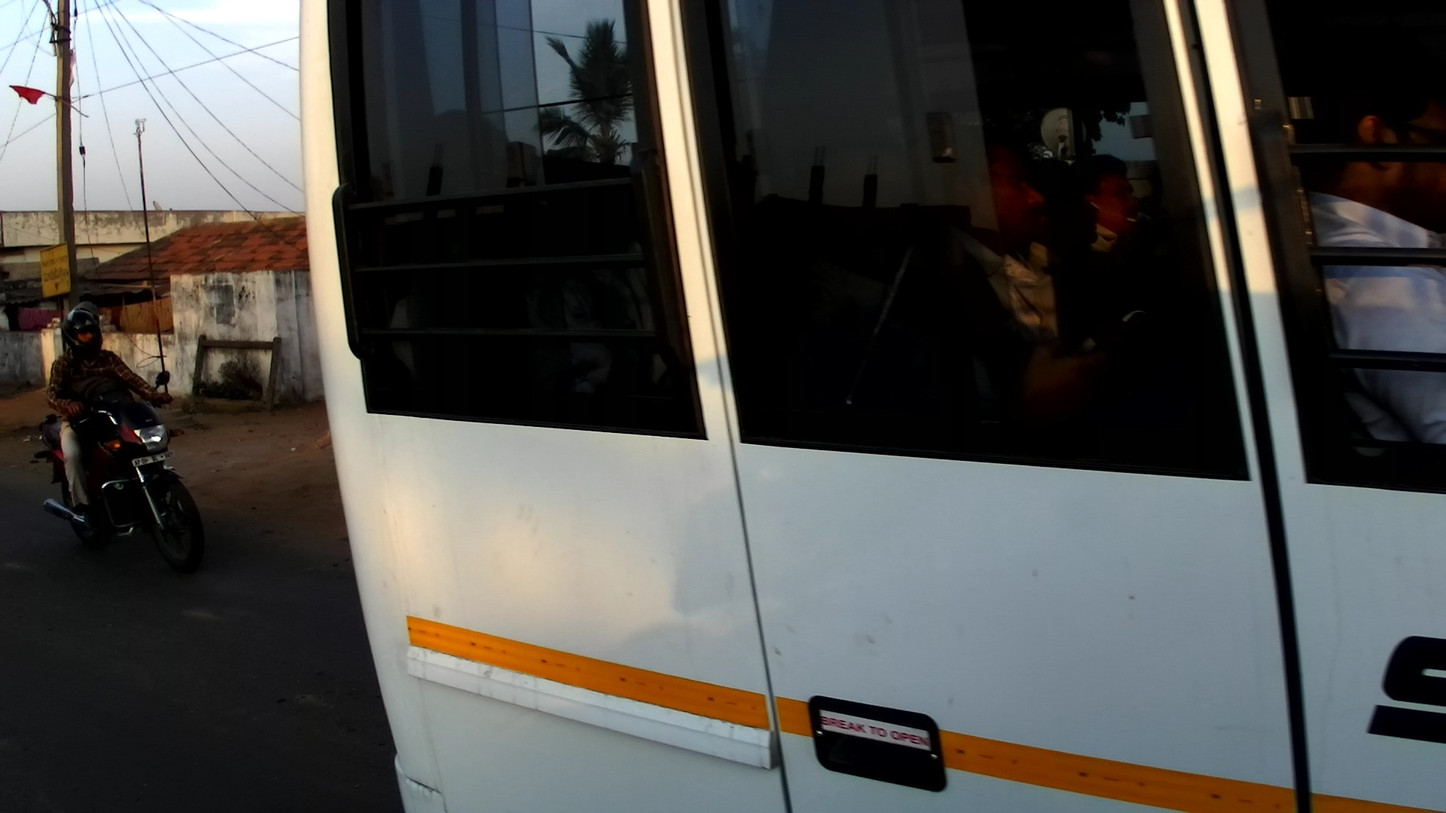bus: (301, 1, 1444, 813)
motorcycle: (29, 368, 213, 577)
rider: (39, 294, 171, 550)
